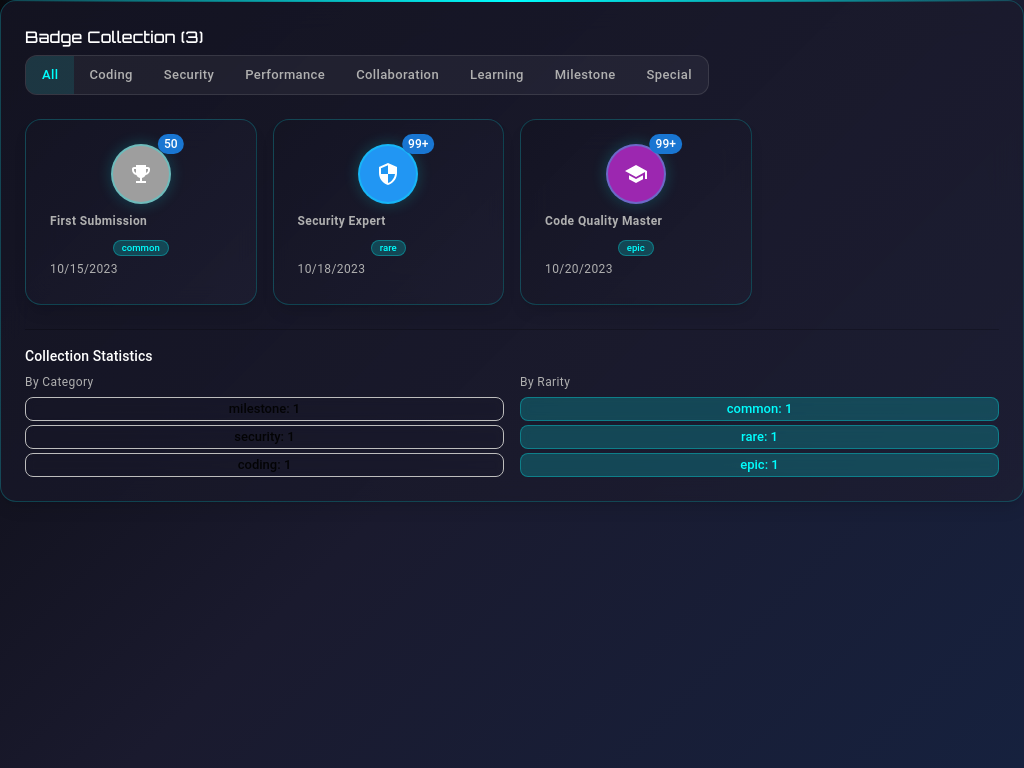
Scenario: BadgeShowcase › shows category-specific empty state
Click the button "Learning": {"x": 497, "y": 75} [454,56,540,94]
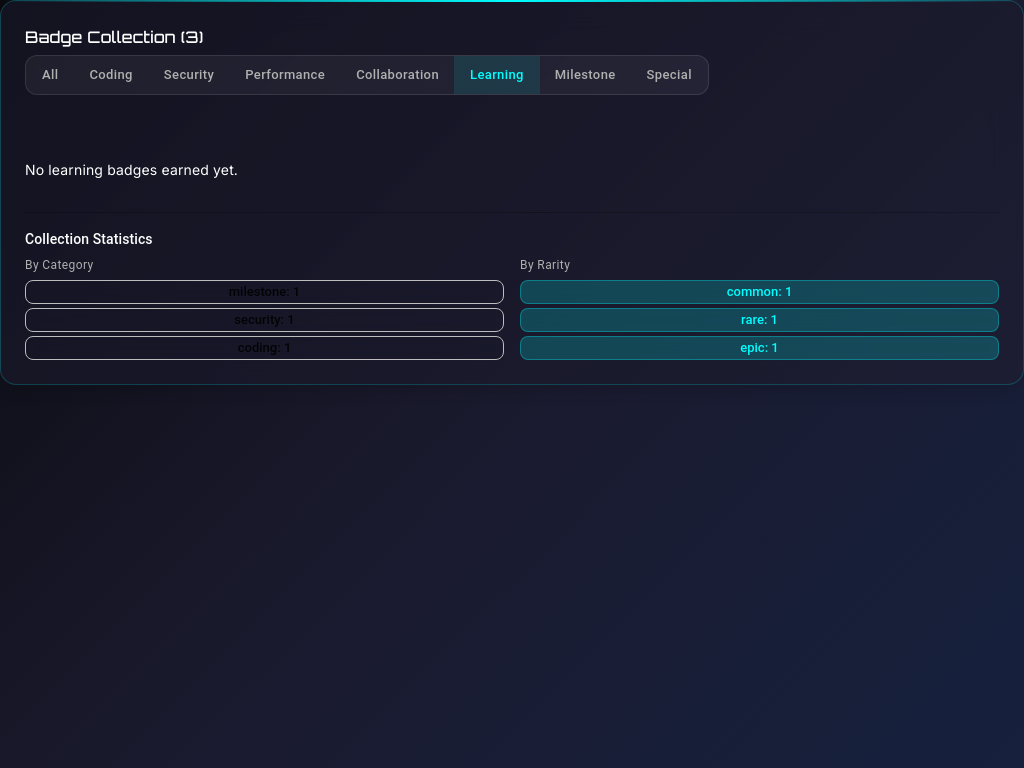
Now the text "No learning badges earned yet." is shown, box [25,161,238,178]
